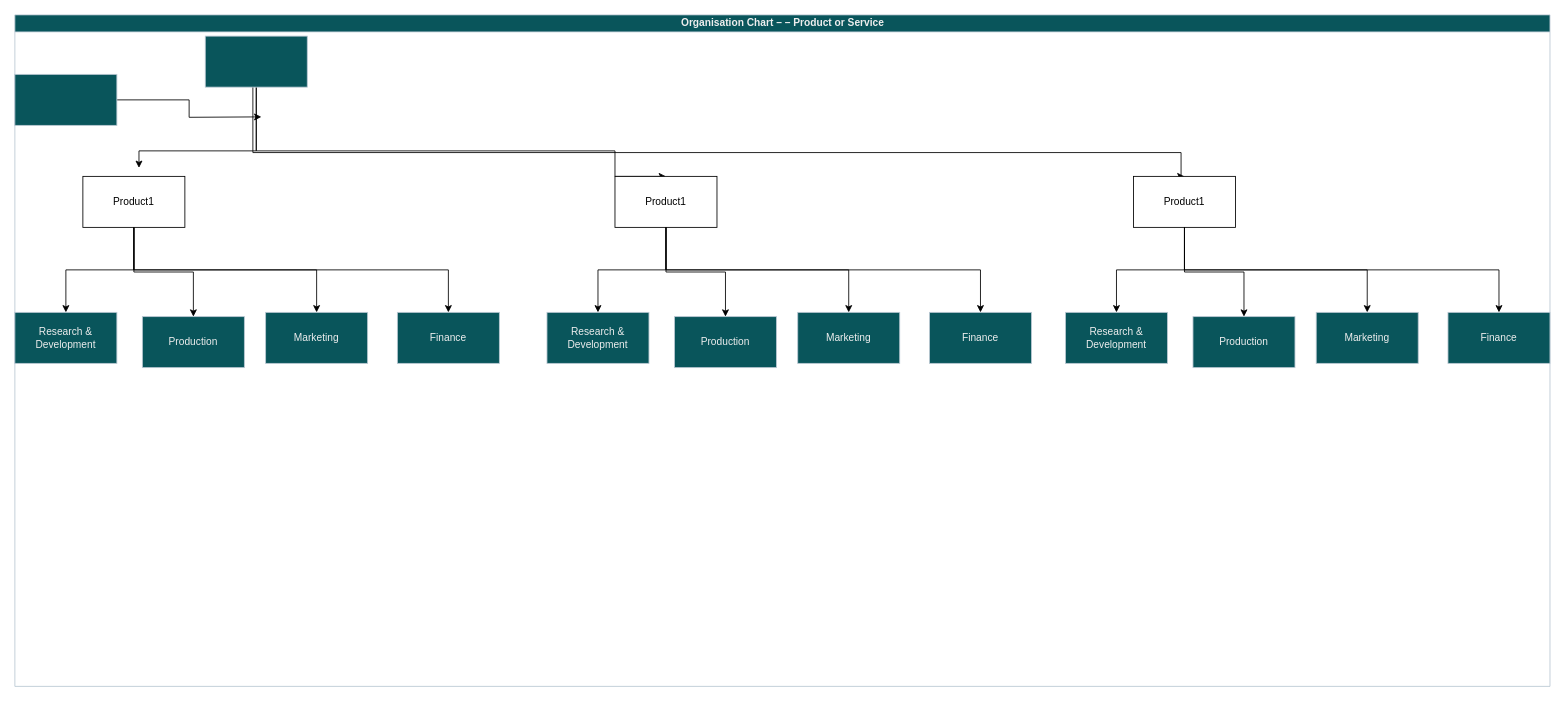
This 1565x701 diagram has some shape labels left out. The shapes that lost their labels are listed below. From the top down, each one's box as (x1, y1, x2, y2) in pixels, then its label:
(204, 35, 307, 87): Managing Director
(14, 74, 117, 125): Human Resourses Management
